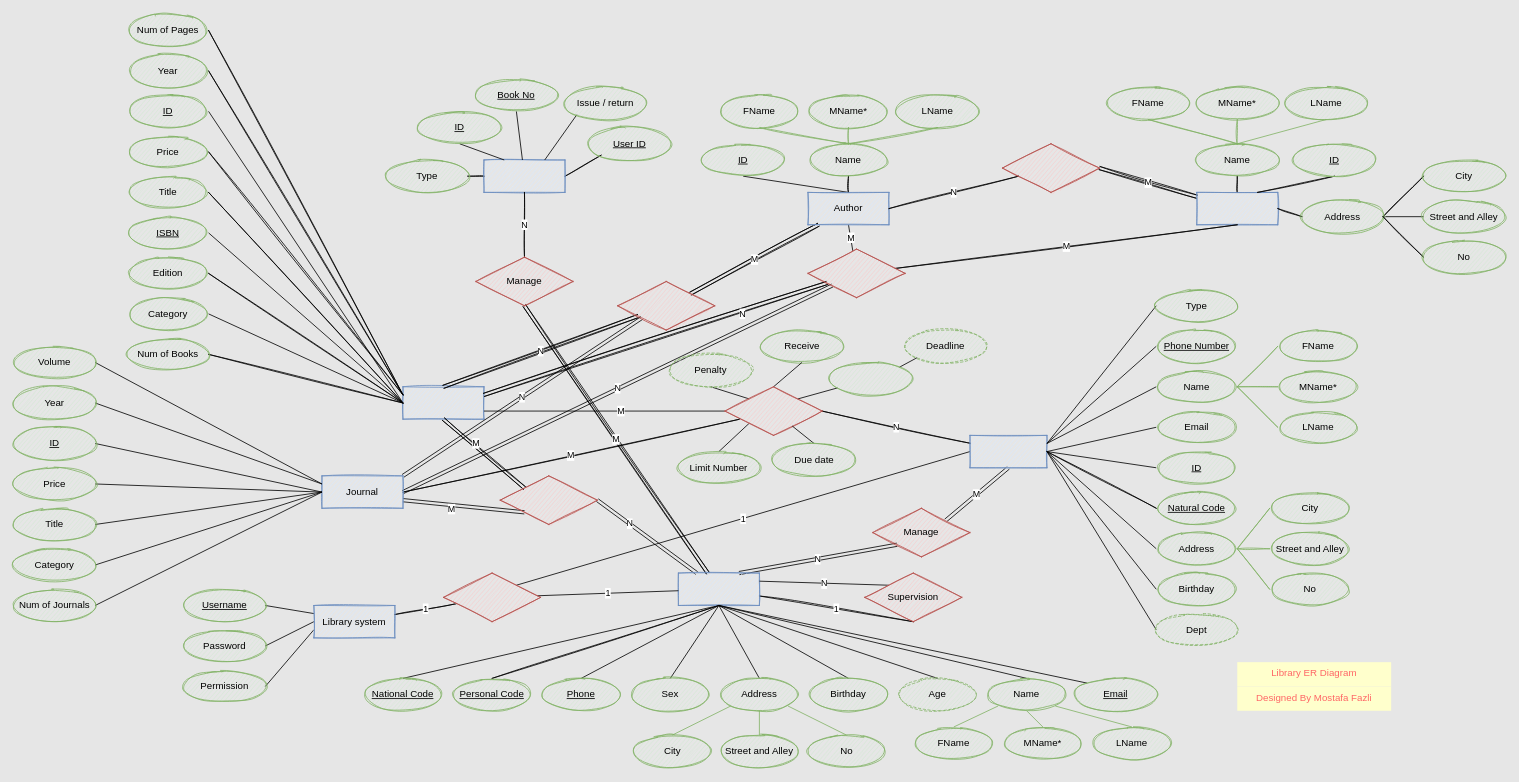
The diagram is 1519 pixels wide and 782 high, and some of its shapes have lost their labels. Each missing label, with the centre of its shape:
"Book" belongs at (443,402).
"Borrow" belongs at (773,410).
"Cooperation" belongs at (1051,167).
"Extension" belongs at (870,378).
"Login" belongs at (492,597).
"Maintain" belongs at (548,499).
"Person" belongs at (1008,451).
"Publish" belongs at (856,273).
"Publisher" belongs at (1237,208).
"Reports" belongs at (524,175).
"Staff" belongs at (718,588).
"Write" belongs at (666,305).
